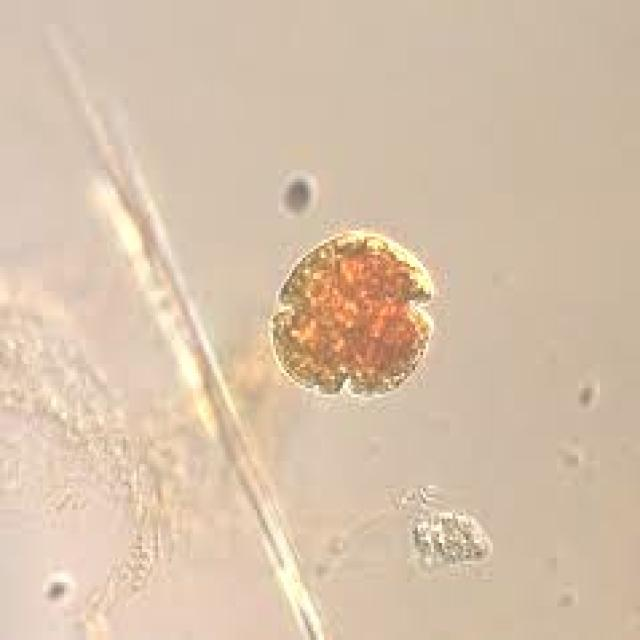Karenia: (270, 215, 451, 418)
